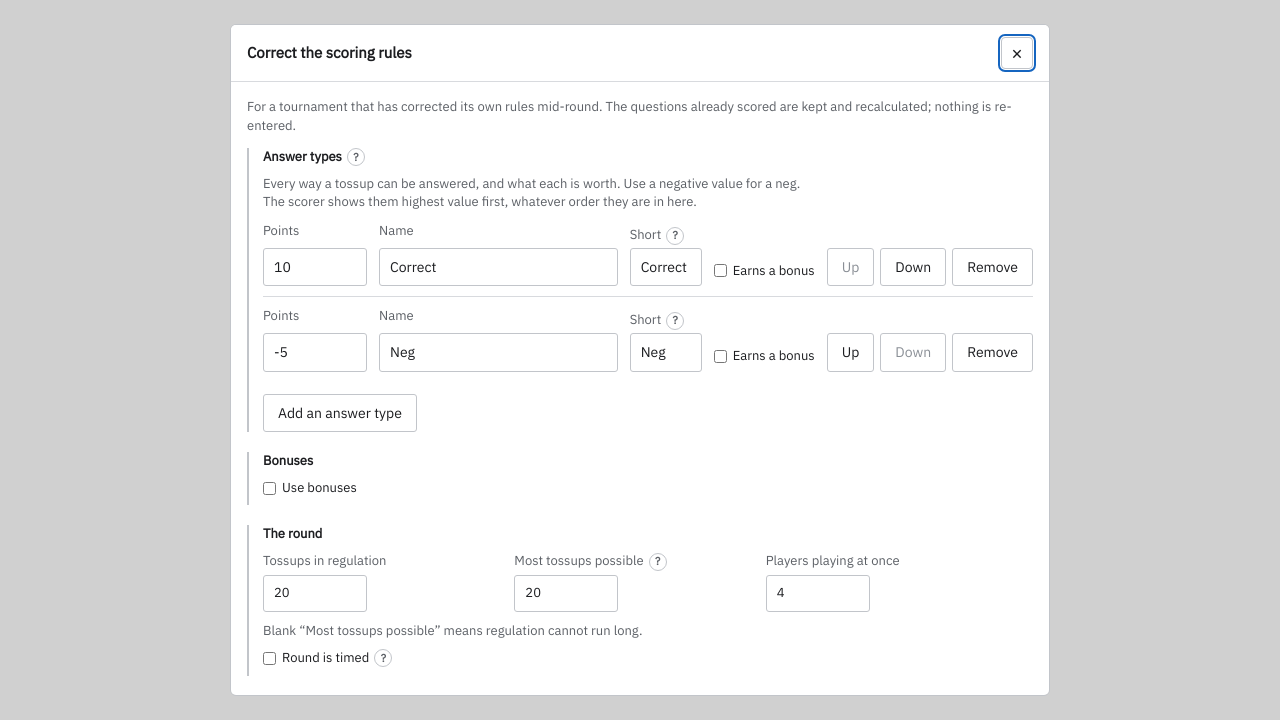
Scenario: a tossup-only game whose rules arrived in a QBJ › can actually correct something
Replace the text in the 1st number field labelled "Points" with "15": (315, 267) [263,248,367,286]
(page scrolled)
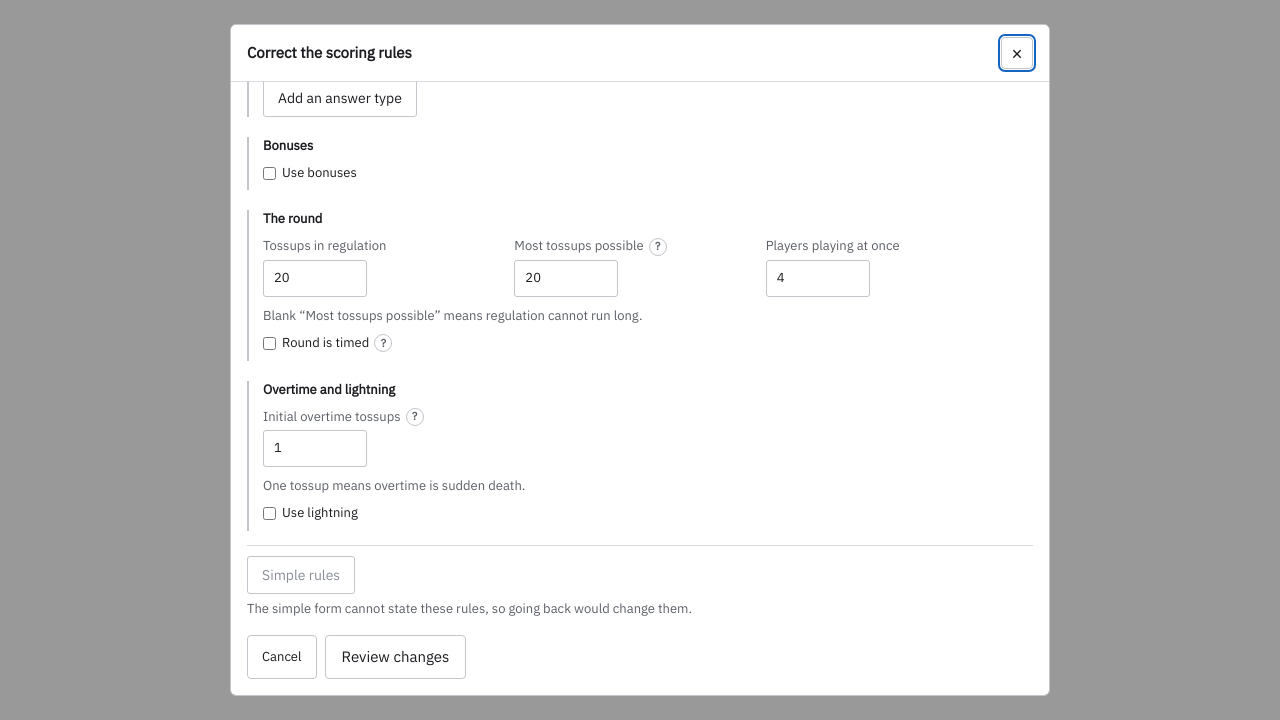
expect the button "Review changes" is enabled: met
Click the button "Review changes": (395, 657) [324,635,466,679]
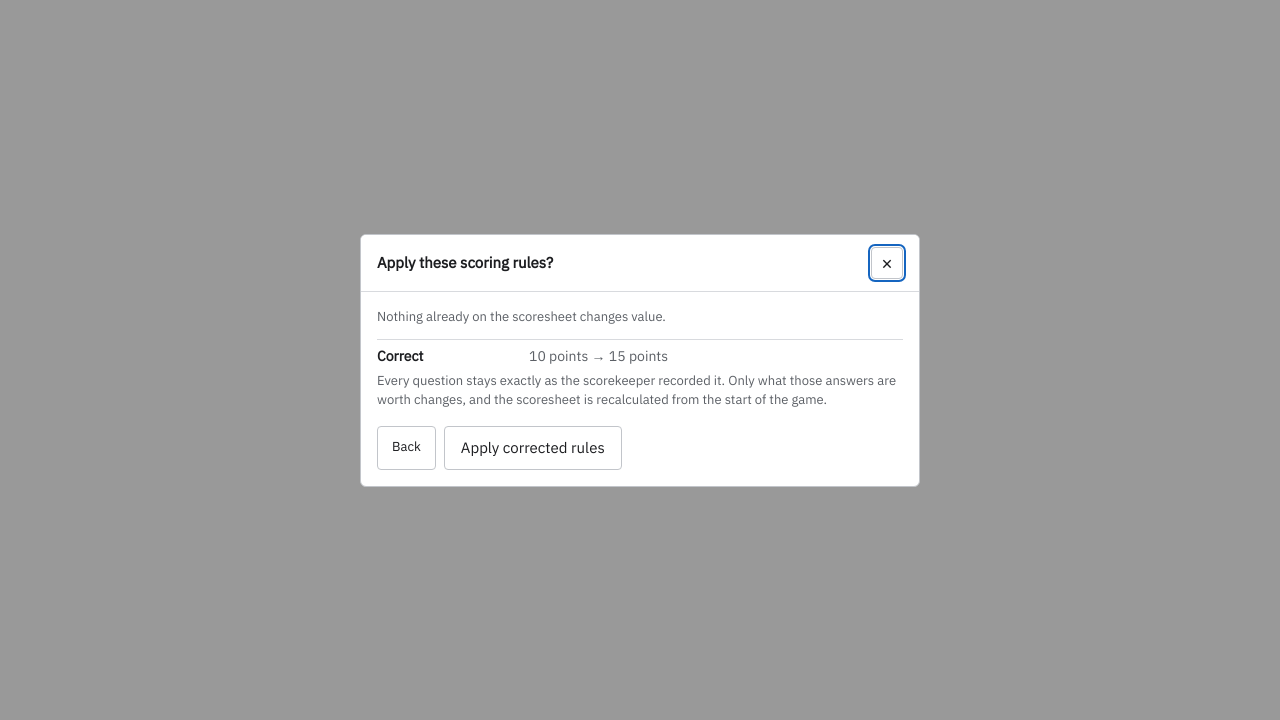
expect the button "Apply corrected rules" is shown: met, box [444,426,622,469]
